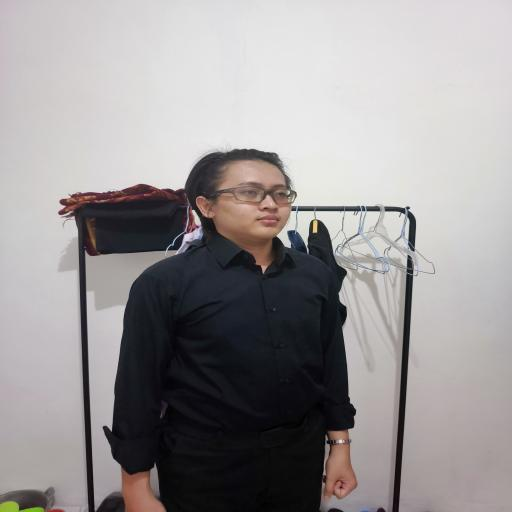celana_benar: (158, 444, 326, 512)
kemeja_salah: (108, 249, 364, 424)
sabuk_ada: (163, 417, 333, 451)
